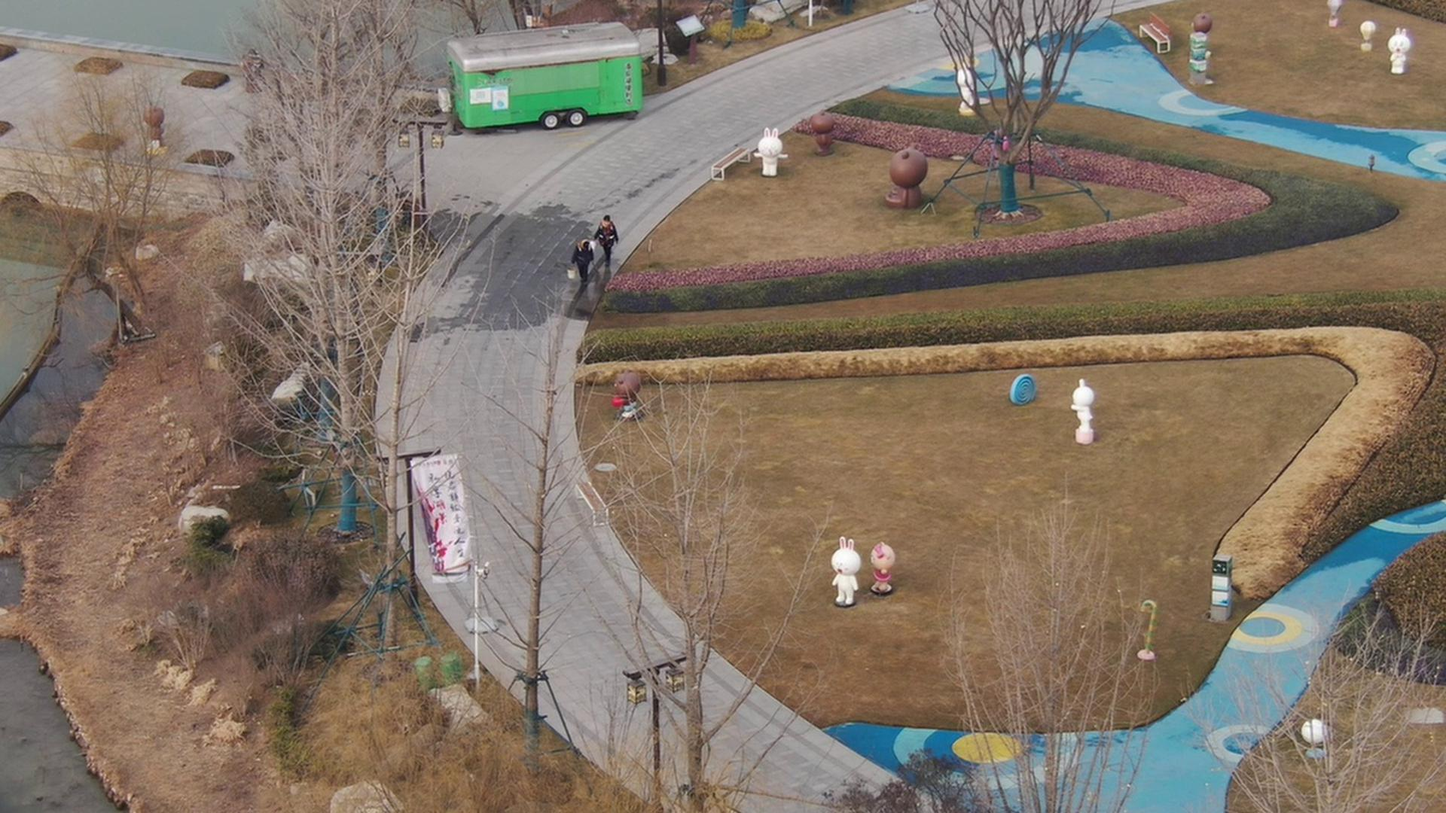human: (558, 225, 592, 290), (593, 204, 618, 266)
